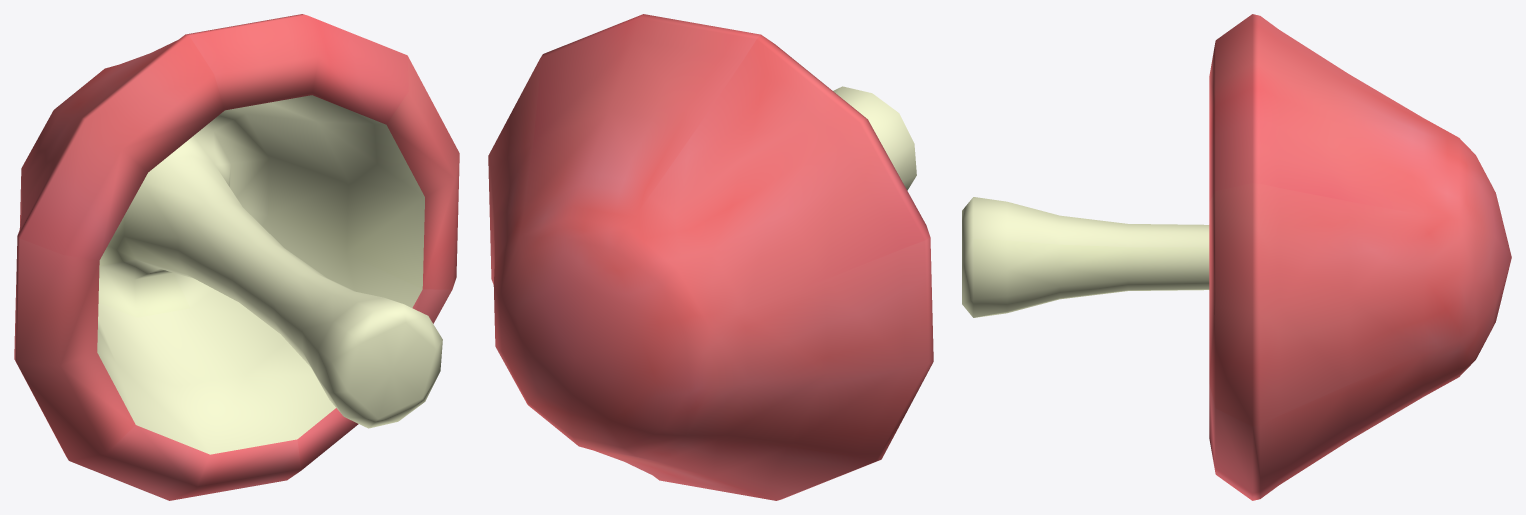
The model's file is Mush.FBX.
The picture shows the model from 3 angles, left to right: view 1: azimuth 30°, elevation 25°; view 2: azimuth 150°, elevation 25°; view 3: azimuth 270°, elevation 25°; orthographic projection. The views are drawn at different scales.
Visible parts, largest first — view 1: pCylinder1064_1__Mushroom00; view 2: pCylinder1064_1__Mushroom00; view 3: pCylinder1064_1__Mushroom00.
Part boxes in pixels (<box>): pCylinder1064_1__Mushroom00: <box>14,14,459,500</box>; pCylinder1064_1__Mushroom00: <box>488,14,933,500</box>; pCylinder1064_1__Mushroom00: <box>962,14,1511,500</box>.
Size of the model in its own units: 31.53 by 31.86 by 35.92.
